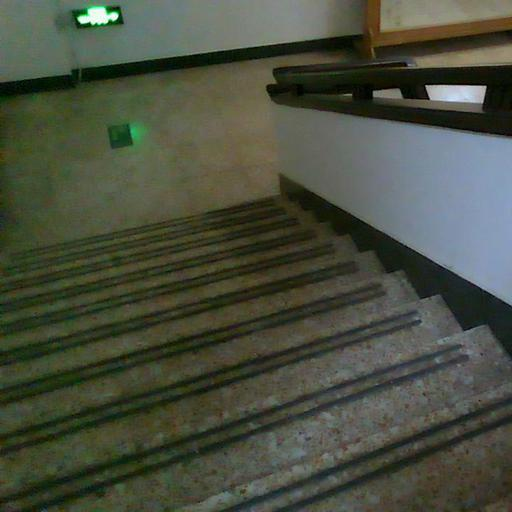stairs: (0, 198, 511, 511)
